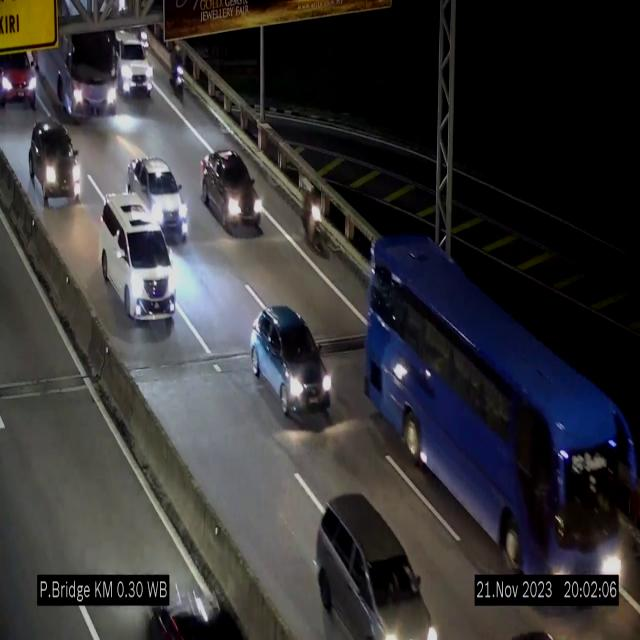Bus: (359, 225, 639, 581), (33, 2, 123, 121)
Car: (314, 493, 442, 640), (247, 303, 332, 427), (100, 194, 176, 325), (198, 146, 264, 234), (128, 156, 188, 240), (27, 117, 83, 205), (110, 24, 160, 108), (0, 30, 41, 127)
Motorcycle: (302, 184, 324, 256), (134, 12, 154, 61), (171, 45, 186, 99)
